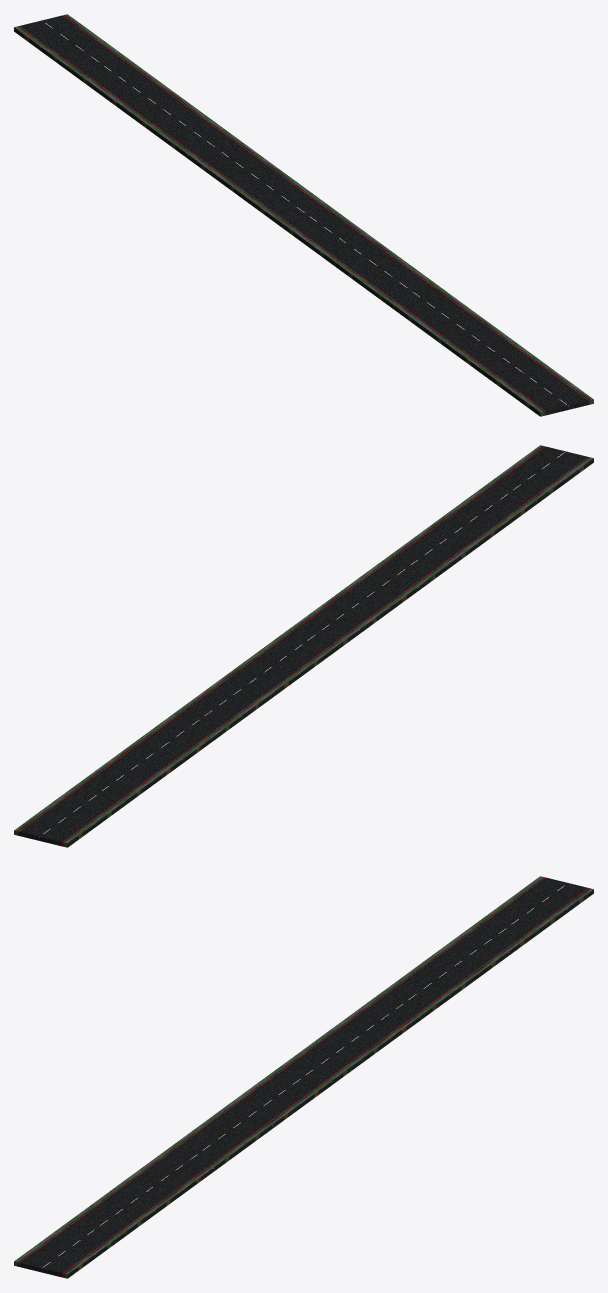
File: DRoad2.glb
3 renders of one model, top to bottom at view 1: azimuth 30°, elevation 25°; view 2: azimuth 150°, elevation 25°; view 3: azimuth 330°, elevation 25°, orthographic.
Visible parts, largest first — view 1: DRoad2; view 2: DRoad2; view 3: DRoad2.
Boxes of the visible parts, box(x1,y1,x2,y2) form: DRoad2: box(14, 14, 593, 416); DRoad2: box(14, 445, 593, 847); DRoad2: box(14, 876, 593, 1278).
Size of the model in its own units: 578 by 44 by 9824.
1 material, 1 textured.
